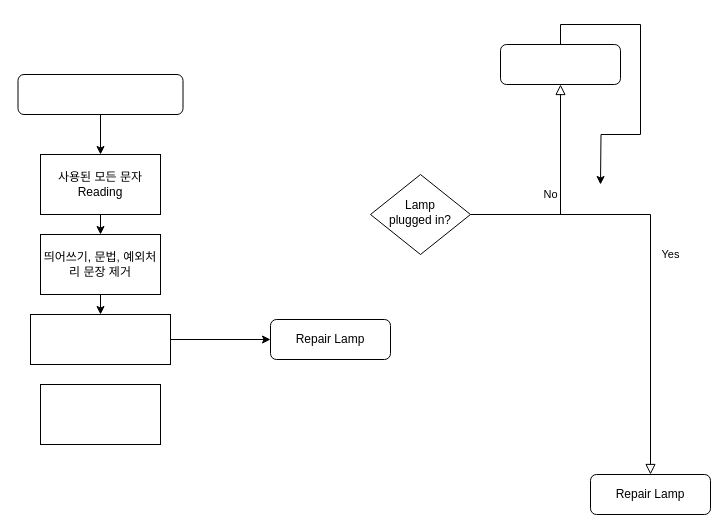
Image size: 728x532. Some labels were removed from this diagram. The shapes that lost their labels are listed below. From the top down, each one's box as (x1, y1, x2, y2) in pixels, then its label:
(500, 44, 620, 84): Plug in lamp
(17, 74, 183, 114): Website 입력 or File 읽기
(30, 314, 170, 364): 단어 나열 및 개수 확인
